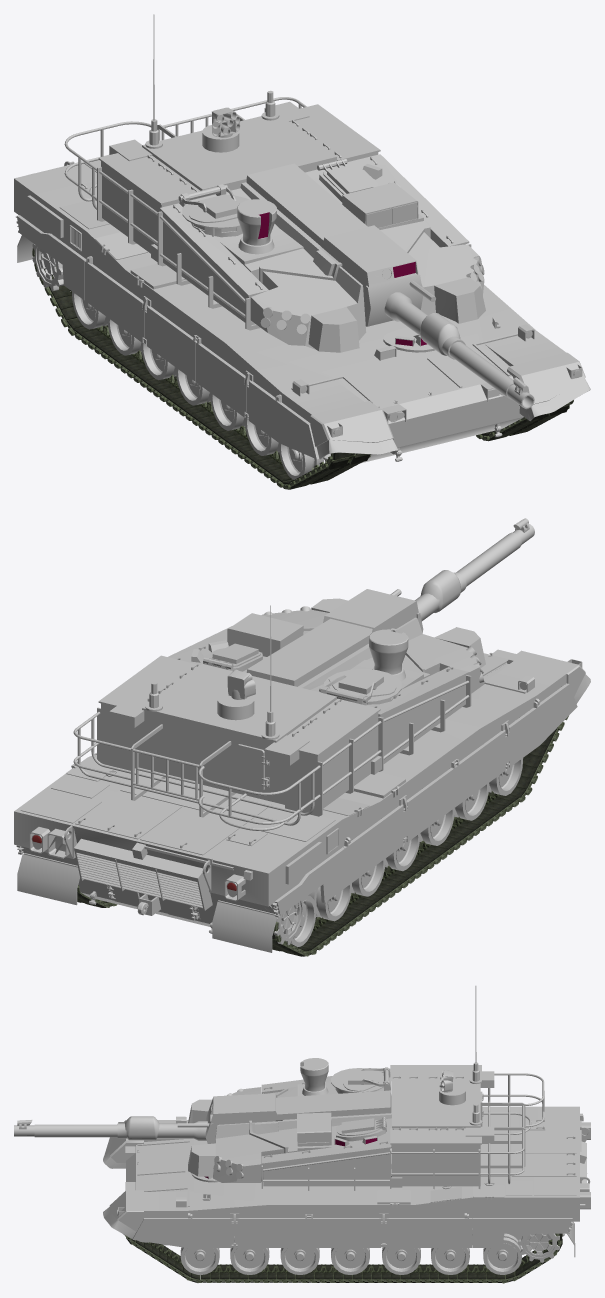
The model's file is JunShi_TanKe005.FBX.
3 renders of one model, top to bottom at view 1: azimuth 30°, elevation 25°; view 2: azimuth 150°, elevation 25°; view 3: azimuth 270°, elevation 25°, orthographic. The views are drawn at different scales.
Parts seen in each view (by area): view 1: AM84_011_00; view 2: AM84_011_00; view 3: AM84_011_00.
Part boxes in pixels (box(x1,y1,x2,y2)): AM84_011_00: box(14, 14, 590, 479); AM84_011_00: box(14, 518, 590, 952); AM84_011_00: box(14, 986, 590, 1275).
Bounding box in the file's own units: 367 × 428 × 954.
